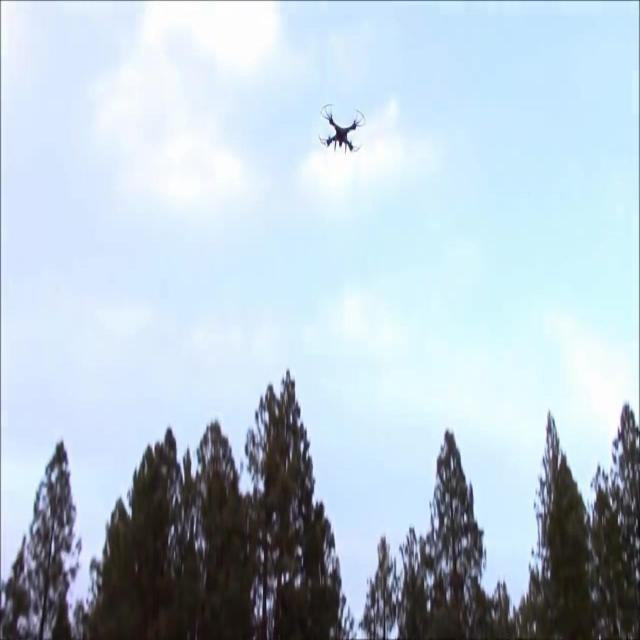drone: (316, 99, 365, 159)
